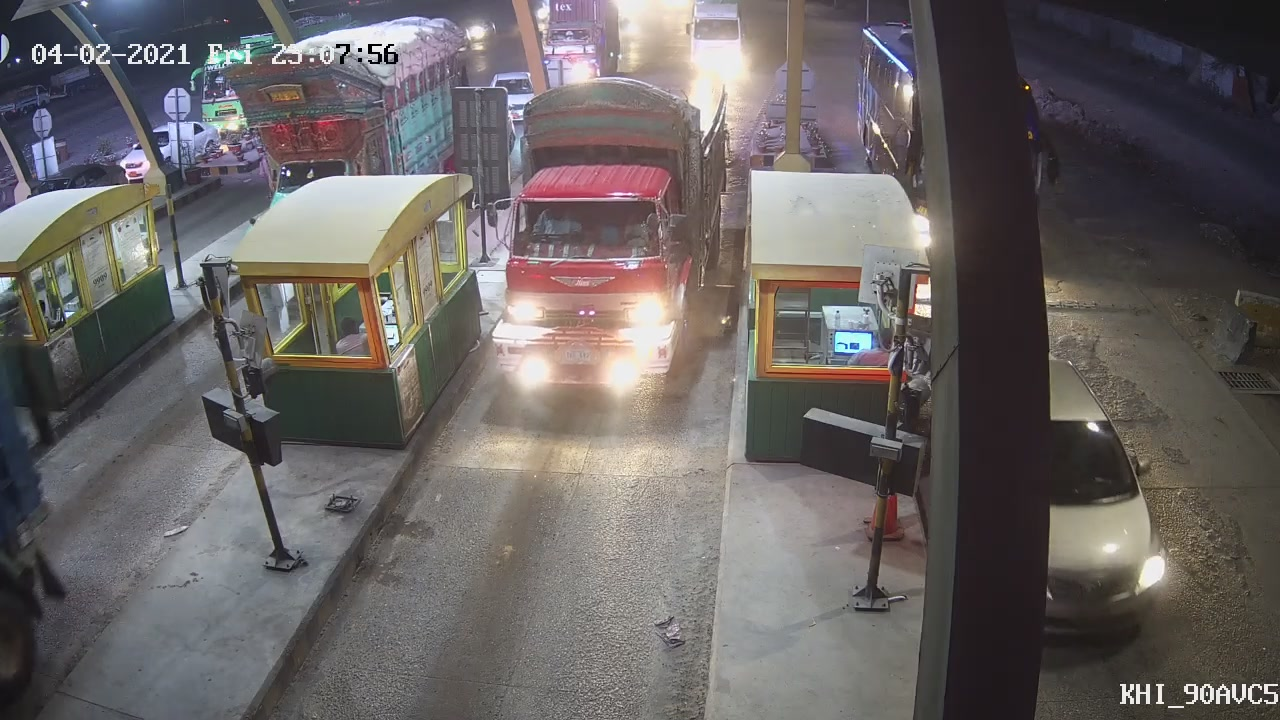F5: (480, 86, 731, 410)
